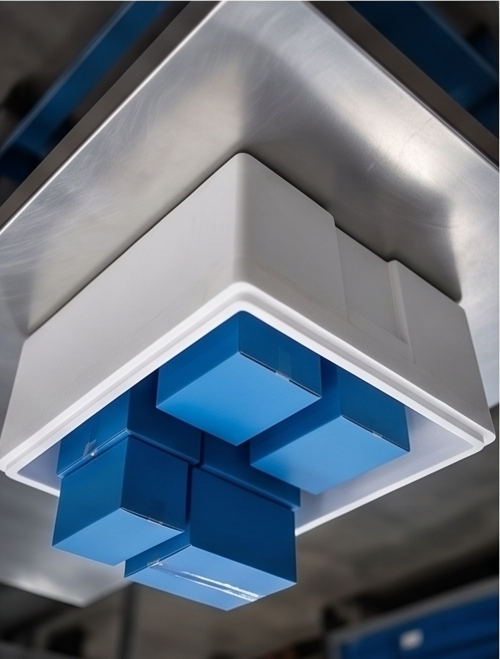blue_box: (124, 465, 295, 611), (153, 308, 321, 447), (248, 356, 409, 499), (53, 436, 188, 568), (56, 370, 201, 478), (198, 432, 300, 511)
container_box: (0, 151, 496, 564)
